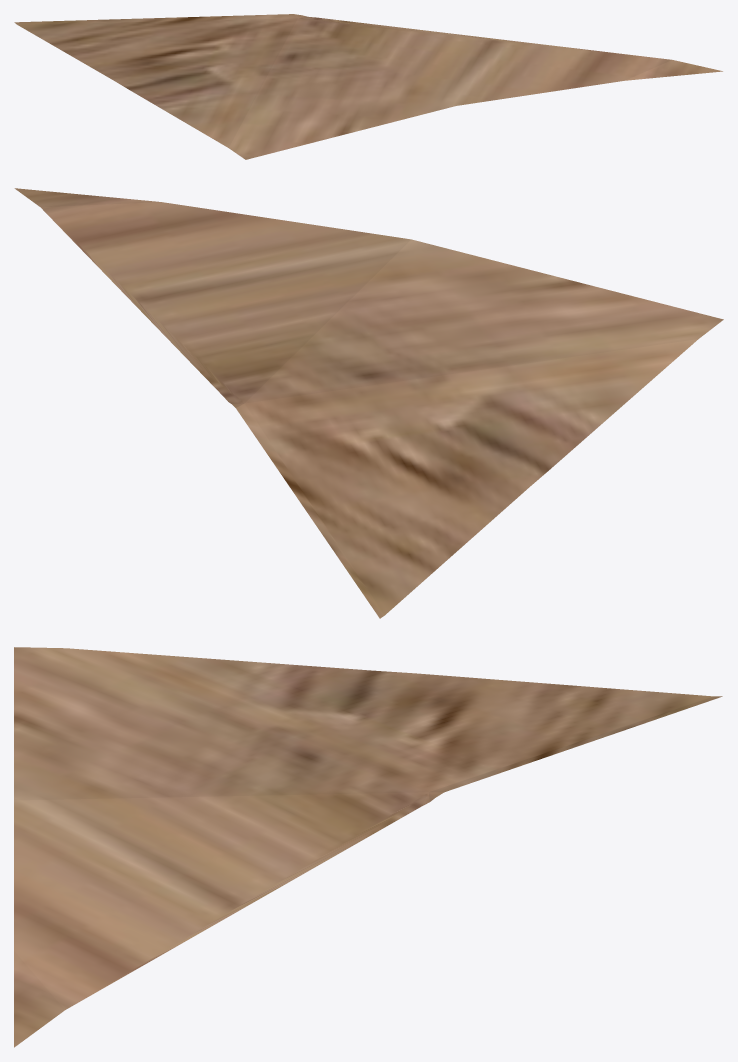
3 renders of one model, top to bottom at view 1: azimuth 30°, elevation 25°; view 2: azimuth 150°, elevation 25°; view 3: azimuth 270°, elevation 25°, orthographic. The views are drawn at different scales.
Bounding box in the file's own units: 0.992 × 0.0689 × 0.8326.
1 material, 1 textured.
